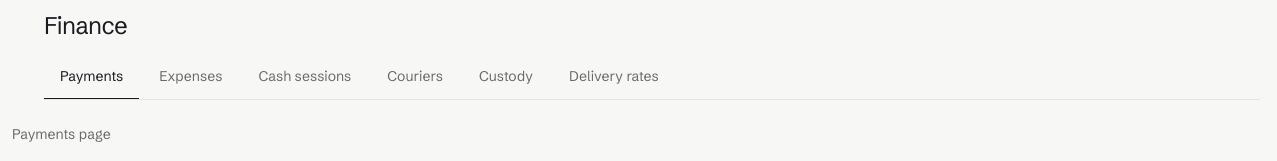
Test: Finance › shows the tab strip and one page title (Finance), with the embedded page only as a section
Check: the text "Payments page" is shown, box [12,124,111,144]
Click the tab "Couriers": [415, 77] box [371,54,459,100]
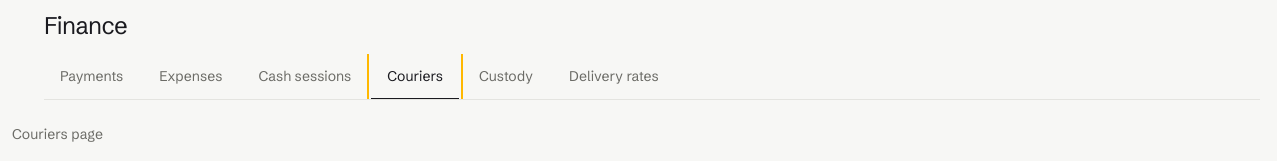
Check: the text "Couriers page" is shown, box [12,124,103,144]
